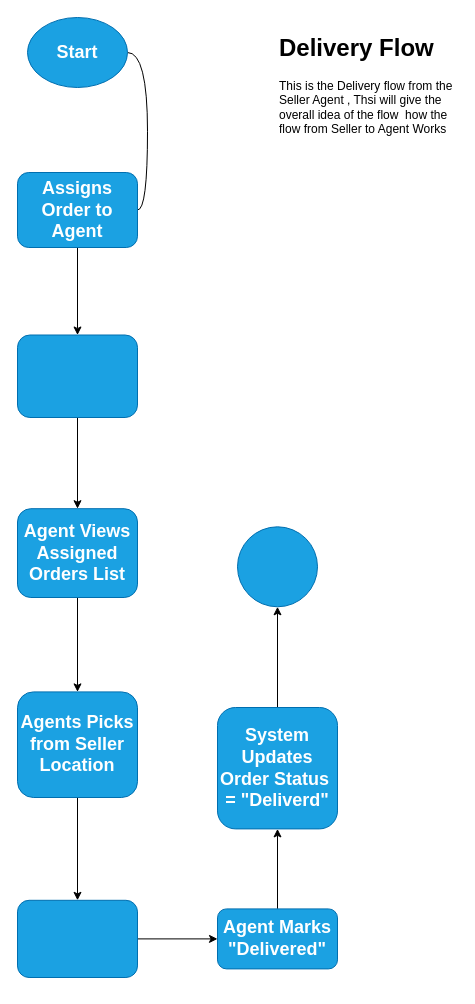
Image size: 475x1004. Some labels were removed from this diagram. Each missing label, with the centre of its shape:
Agent Delivers to Customer: point (77, 938)
Agent Recevies Notifiaction: point (77, 376)
End: point (277, 566)
